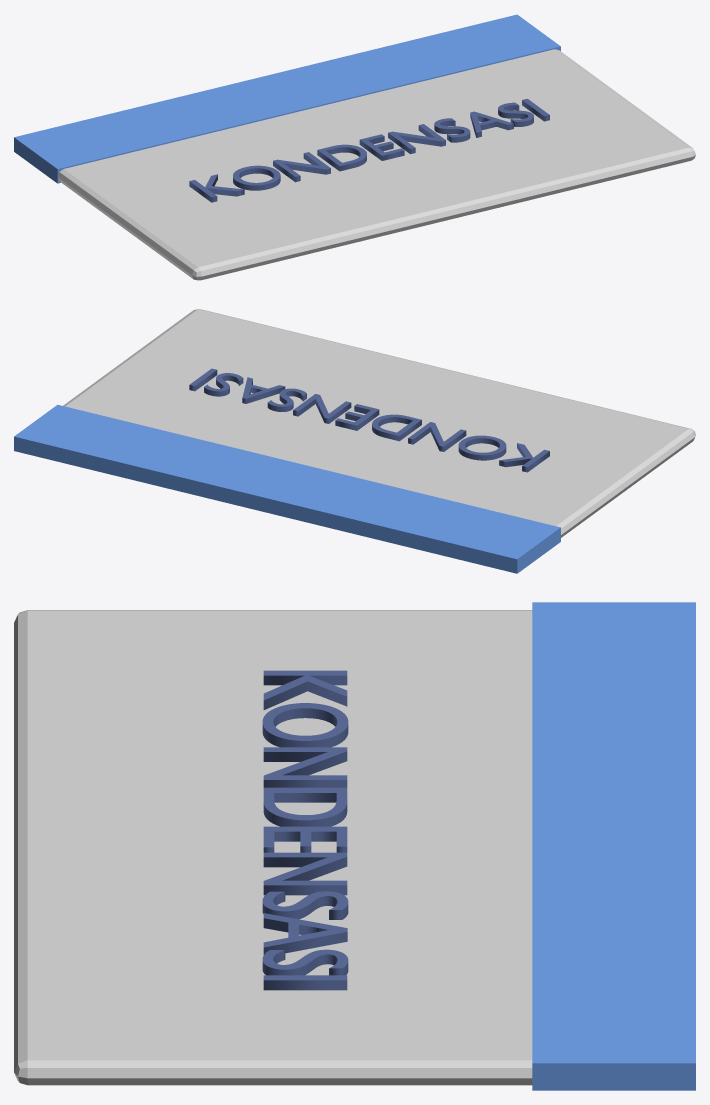
File: card_kondensasi.glb
3 views of the same model, one above another, from view 1: azimuth 30°, elevation 25°; view 2: azimuth 150°, elevation 25°; view 3: azimuth 270°, elevation 25° (orthographic). The views are drawn at different scales.
Visible parts, largest first — view 1: card, card_band, card_word; view 2: card, card_band, card_word; view 3: card, card_band, card_word.
Part boxes in pixels (<box>): card: <box>57,49,695,280</box>; card_band: <box>14,14,560,183</box>; card_word: <box>189,98,549,202</box>; card: <box>63,309,695,537</box>; card_band: <box>14,404,560,573</box>; card_word: <box>189,368,549,472</box>; card: <box>14,610,532,1085</box>; card_band: <box>532,602,695,1090</box>; card_word: <box>262,670,348,990</box>.
Bounding box in the file's own units: 0.08 × 0.0028 × 0.05.
